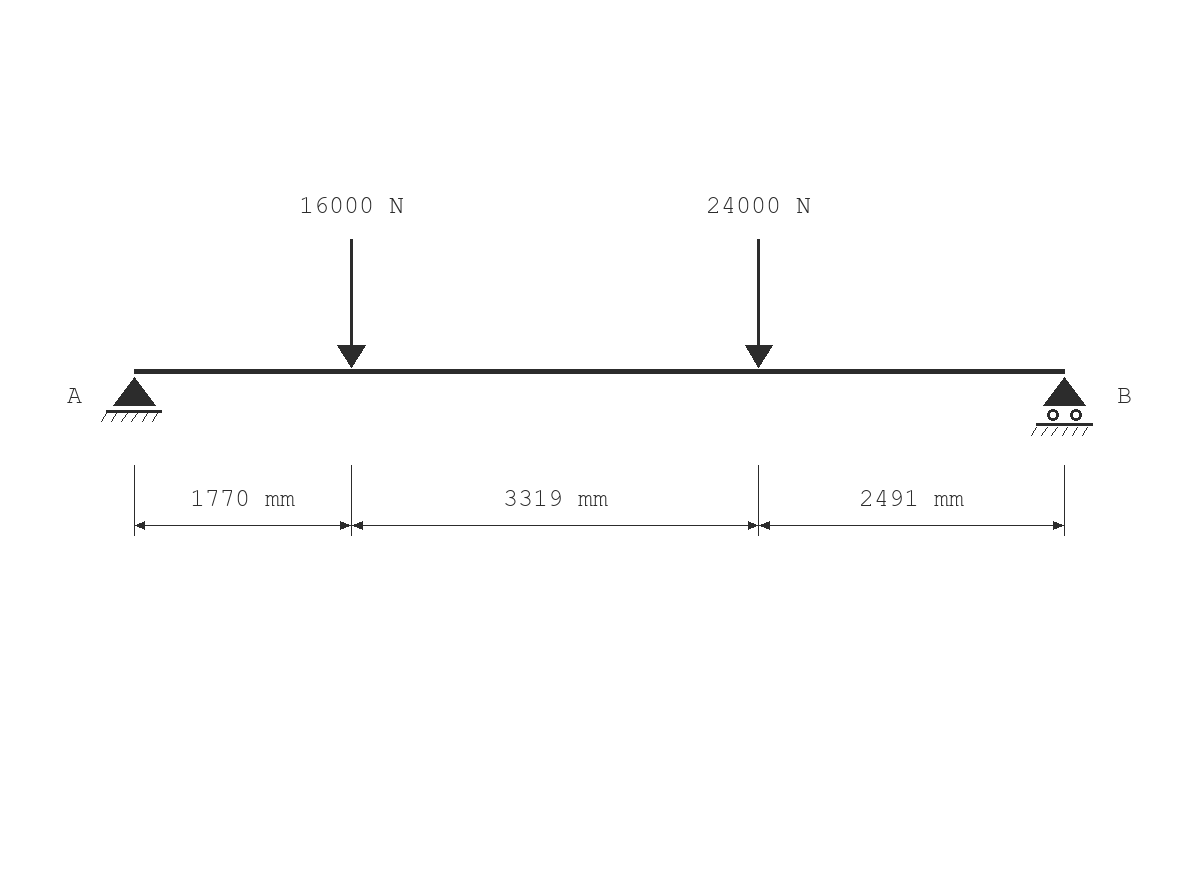pin_support: (101, 377, 162, 422)
point_load: (337, 239, 366, 368), (745, 239, 773, 368)
roller_support: (1031, 377, 1093, 436)
